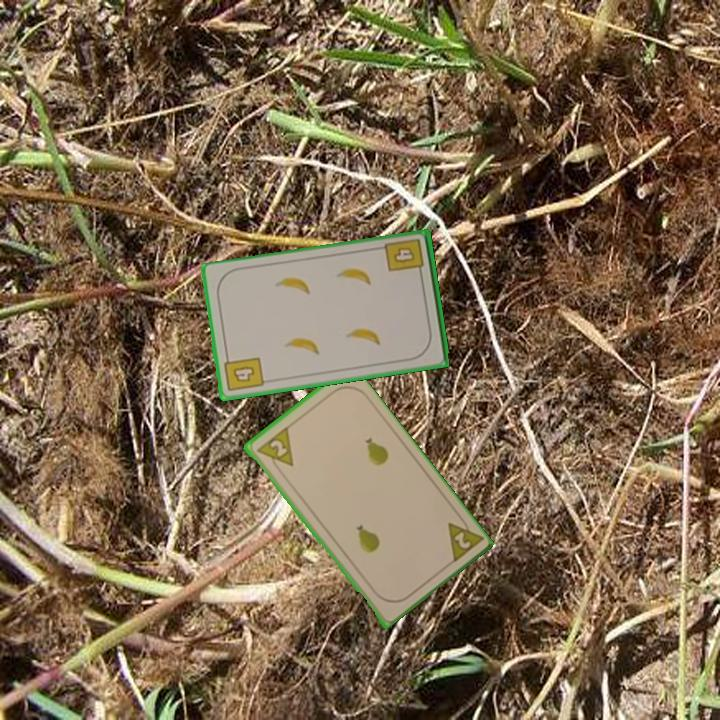2p: (443, 510, 485, 566), (252, 424, 296, 476)
4b: (382, 235, 427, 280), (221, 351, 267, 395)
